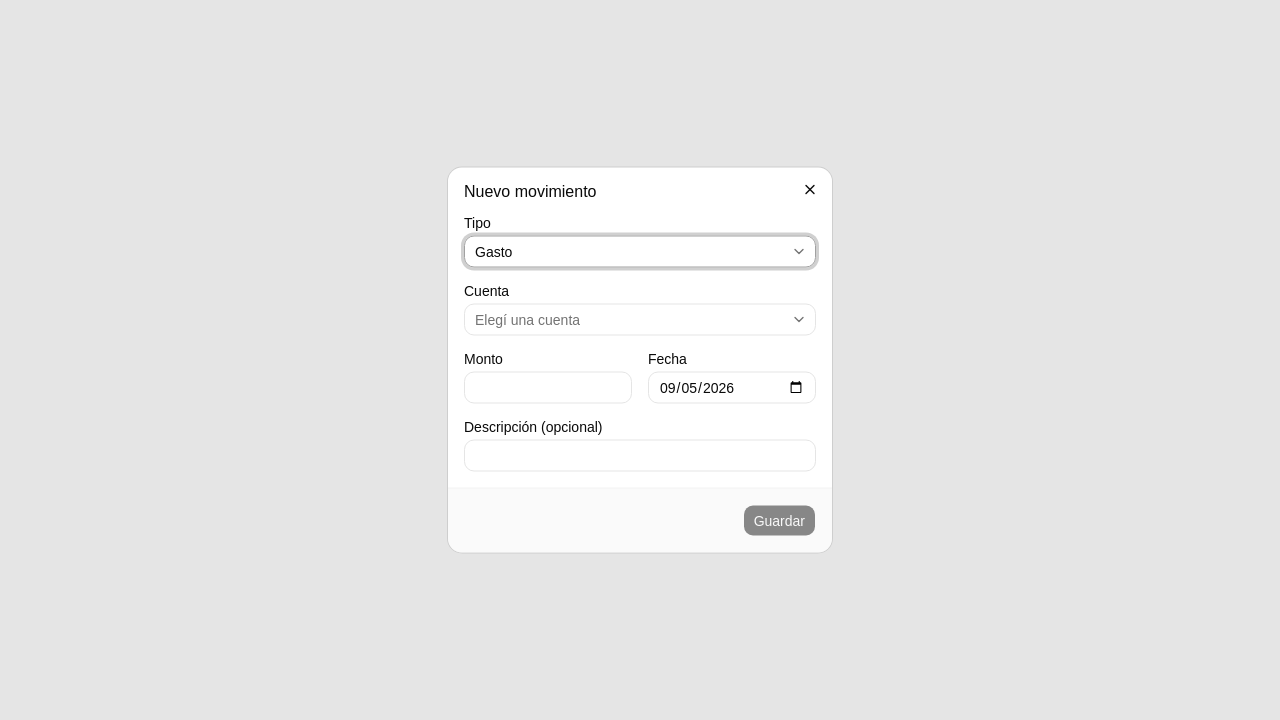
TransactionFormDialog › shows the destination account selector only for transfers
Expected: the field labelled "Cuenta de destino" is not shown
Click the dropdown named "tipo": x=494, y=252 [464,236,816,268]
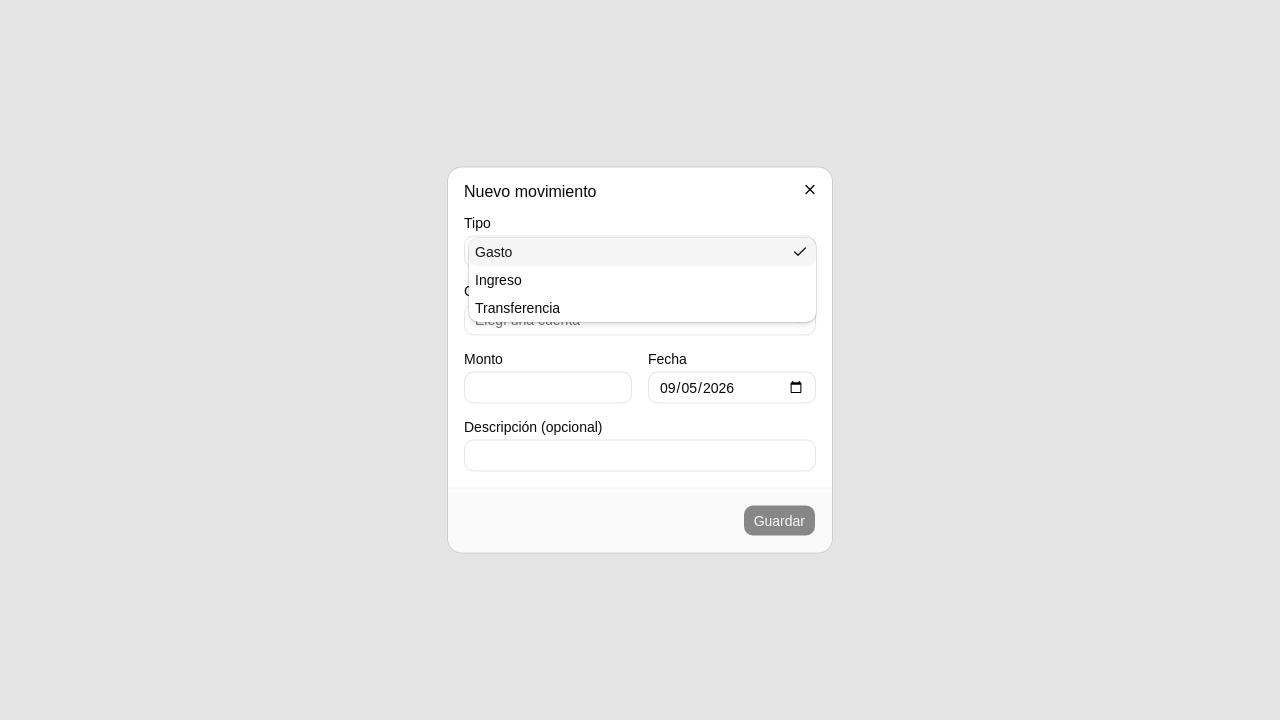
Click the option "Transferencia": x=518, y=308 [475,300,560,316]
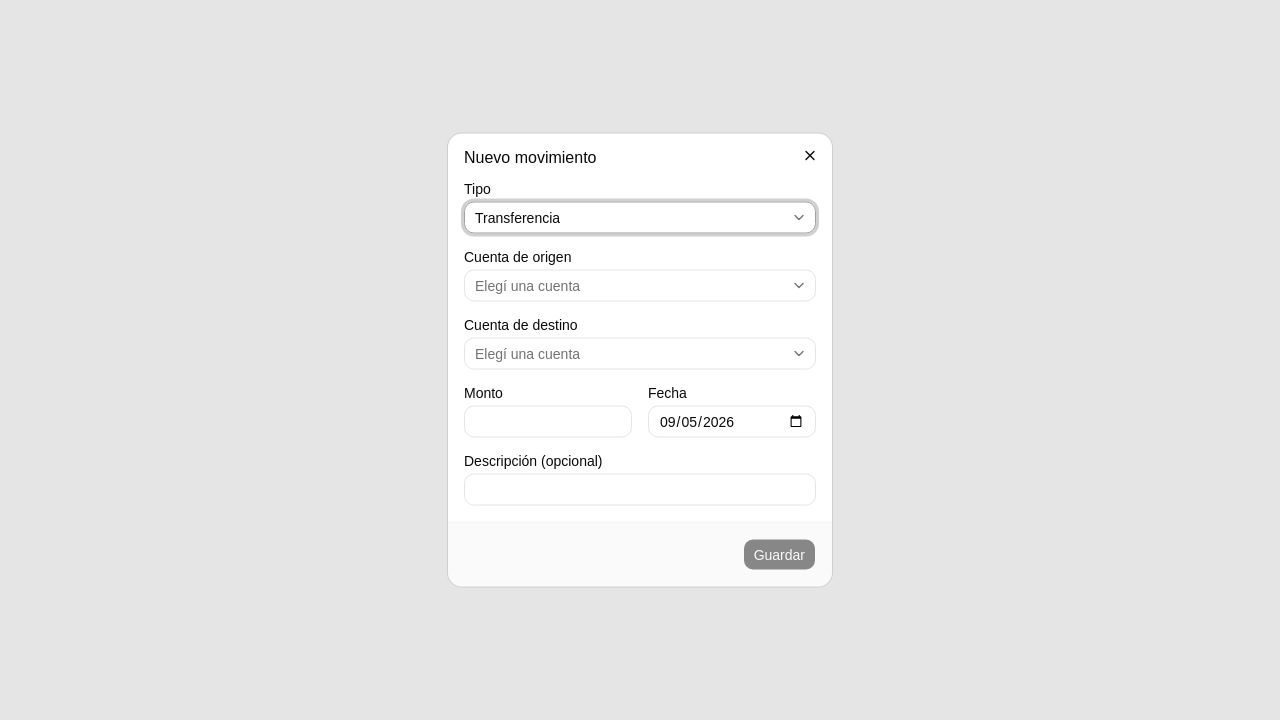
Now the dropdown named "Cuenta de destino" is shown, box [464,338,816,370]
